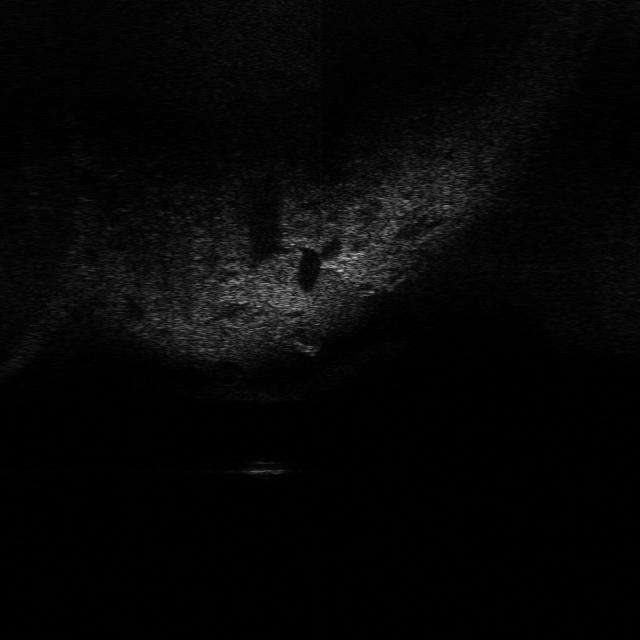ball: (289, 319, 327, 356)
cube: (236, 455, 290, 481)
